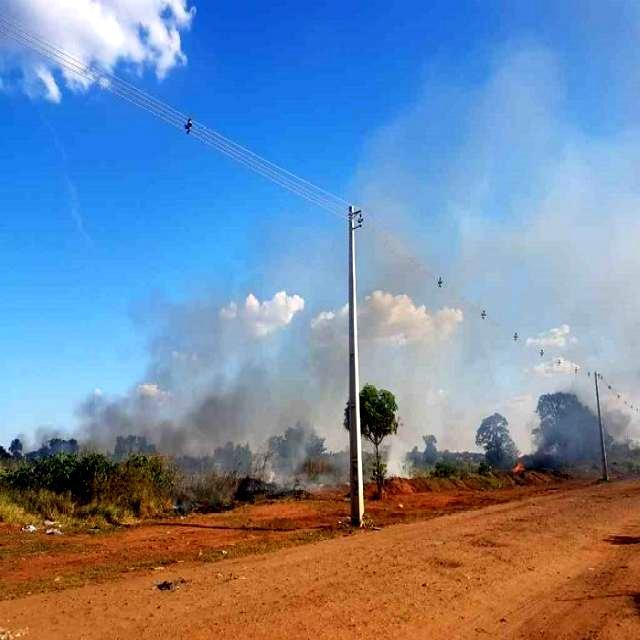Smoke: (48, 322, 315, 498), (545, 317, 640, 510)
